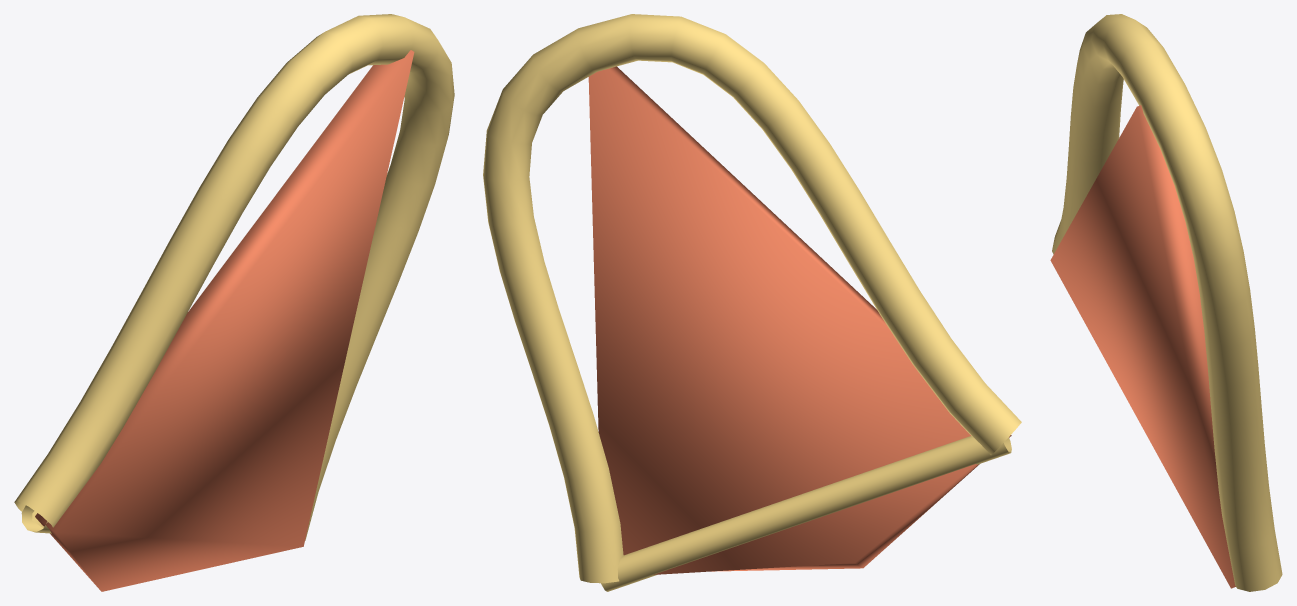
Rendered from dragon_wing_r.glb.
3 views of the same model, side by side, from view 1: azimuth 30°, elevation 25°; view 2: azimuth 150°, elevation 25°; view 3: azimuth 270°, elevation 25° (orthographic). The views are drawn at different scales.
Visible parts, largest first — view 1: dragon wing_r; view 2: dragon wing_r; view 3: dragon wing_r.
Part boxes in pixels (<box>): dragon wing_r: <box>14,14,454,591</box>; dragon wing_r: <box>483,14,1021,591</box>; dragon wing_r: <box>1050,14,1282,591</box>.
Size of the model in its own units: 0.7921 by 0.8581 by 0.321.
